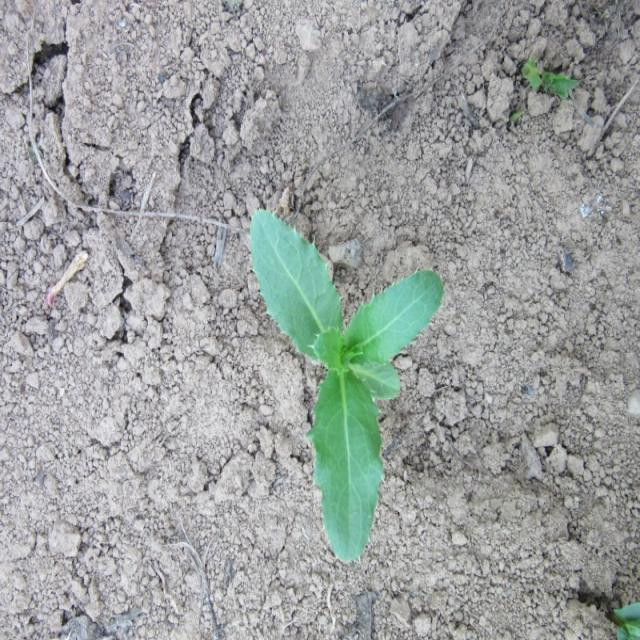cs: (248, 206, 445, 566)
